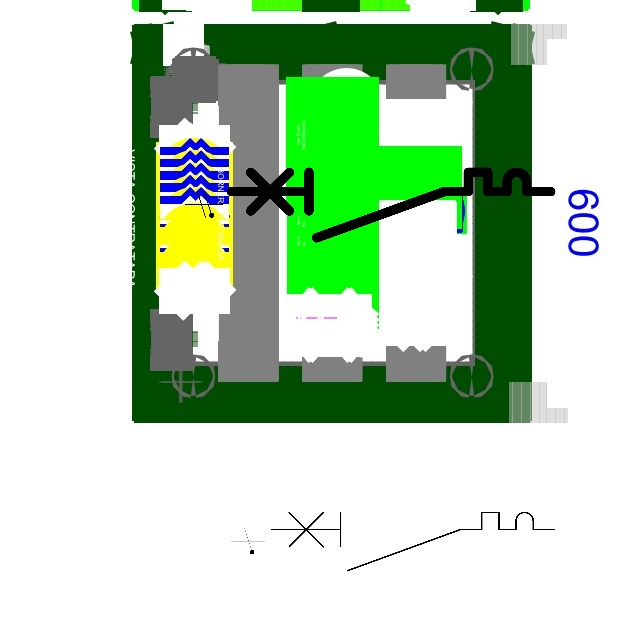interruptor_termomagnetico: (223, 164, 559, 246), (264, 505, 562, 578)
